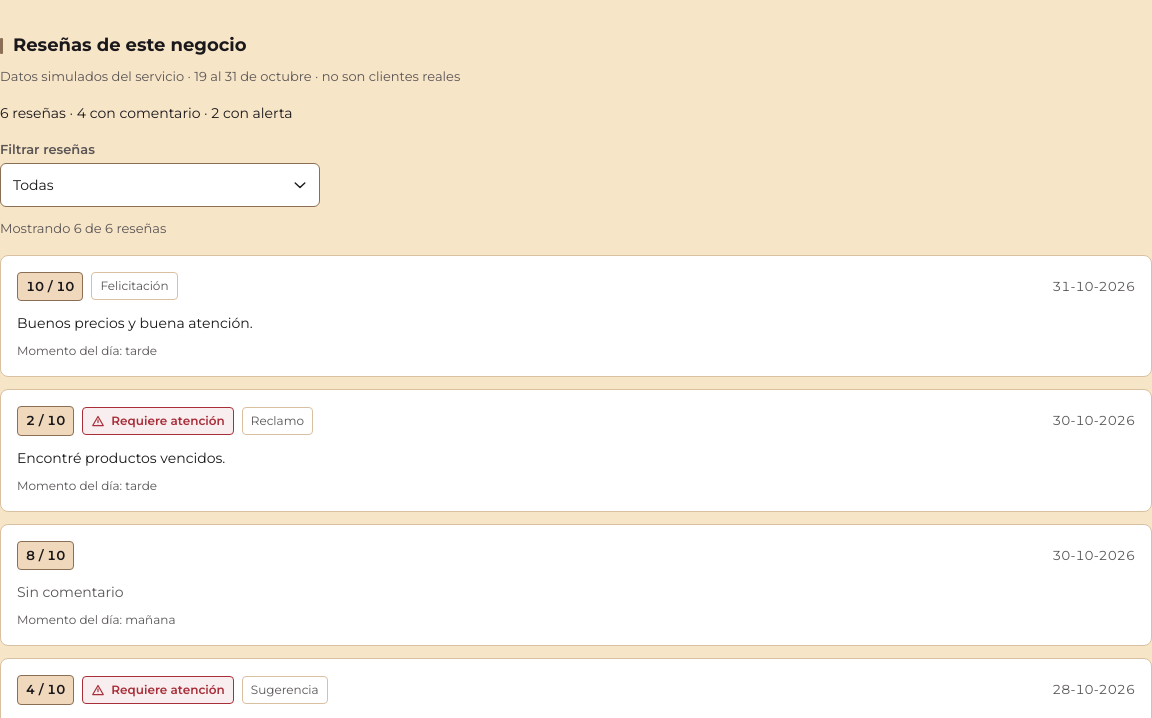
ResenasNegocio contra el servicio › 6. filtro Con alerta: solo los 2 ítems con etiqueta Requiere atención
Select "Con alerta" in the dropdown labelled "Filtrar reseñas". click: (160, 185)
box: left=0, top=163, right=320, bottom=207
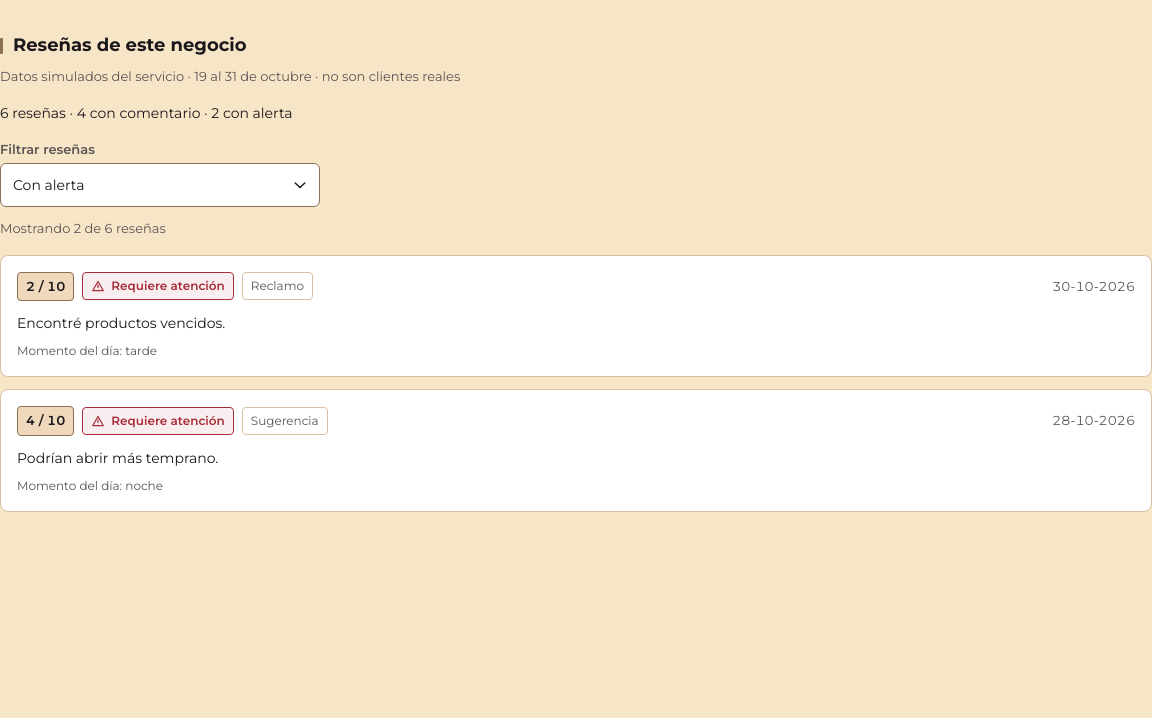
Expected: the text "Requiere atención" next to "Reclamo" is shown, left=111, top=278, right=225, bottom=293
Now the text "Mostrando 2 de 6 reseñas" is shown, box left=0, top=220, right=166, bottom=236
Now the number of list items is 2, box left=0, top=254, right=1151, bottom=377; left=0, top=389, right=1151, bottom=512
